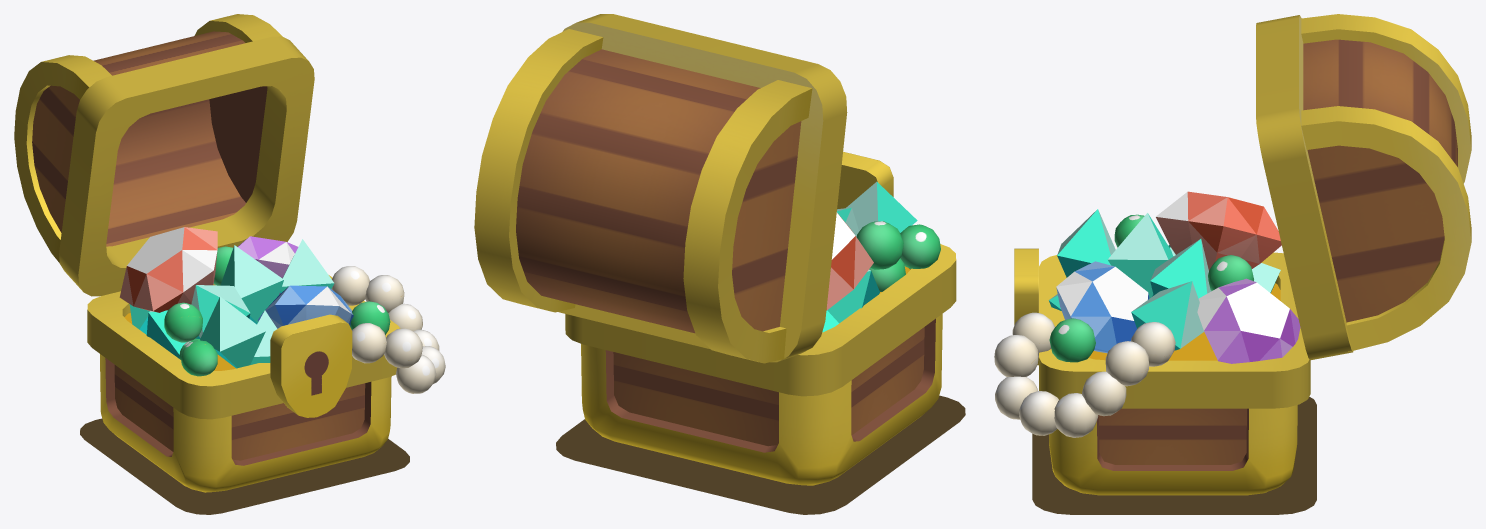
File: Mu_Treasure02.fbx
The picture shows the model from 3 angles, left to right: view 1: azimuth 30°, elevation 25°; view 2: azimuth 150°, elevation 25°; view 3: azimuth 270°, elevation 25°; orthographic projection. The views are drawn at different scales.
Parts seen in each view (by area): view 1: Mu_Treasure02_a, Mu_Treasure02_b, Mu_Treasure02_shadow; view 2: Mu_Treasure02_a, Mu_Treasure02_shadow, Mu_Treasure02_b; view 3: Mu_Treasure02_a, Mu_Treasure02_b, Mu_Treasure02_shadow.
Part boxes in pixels (box(x1,y1,x2,y2)): Mu_Treasure02_a: box(14, 14, 400, 492); Mu_Treasure02_b: box(119, 227, 445, 393); Mu_Treasure02_shadow: box(80, 418, 409, 514); Mu_Treasure02_a: box(474, 14, 956, 485); Mu_Treasure02_shadow: box(556, 395, 965, 514); Mu_Treasure02_b: box(822, 181, 940, 332); Mu_Treasure02_a: box(1014, 14, 1471, 495); Mu_Treasure02_b: box(994, 191, 1300, 437); Mu_Treasure02_shadow: box(1032, 397, 1316, 514).
Bounding box in the file's own units: 127 × 161 × 179.
Materials: 2 (1 with a texture image).
